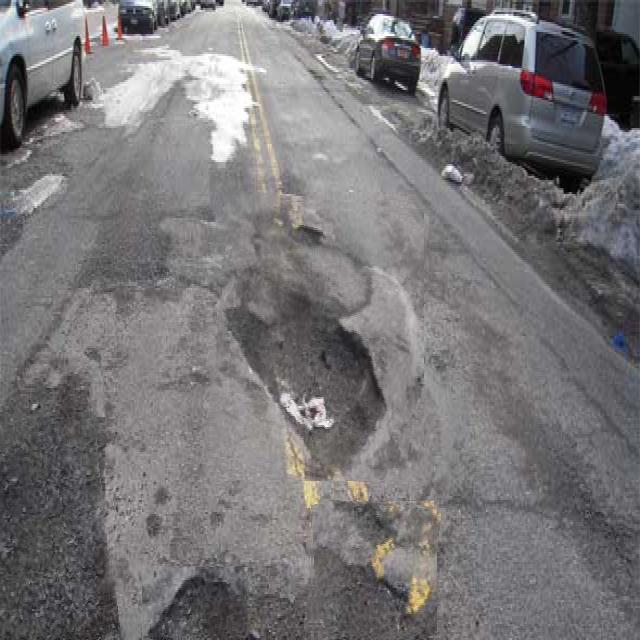Pothole: (210, 195, 424, 481), (0, 413, 113, 640), (307, 501, 437, 640), (143, 567, 248, 640)
